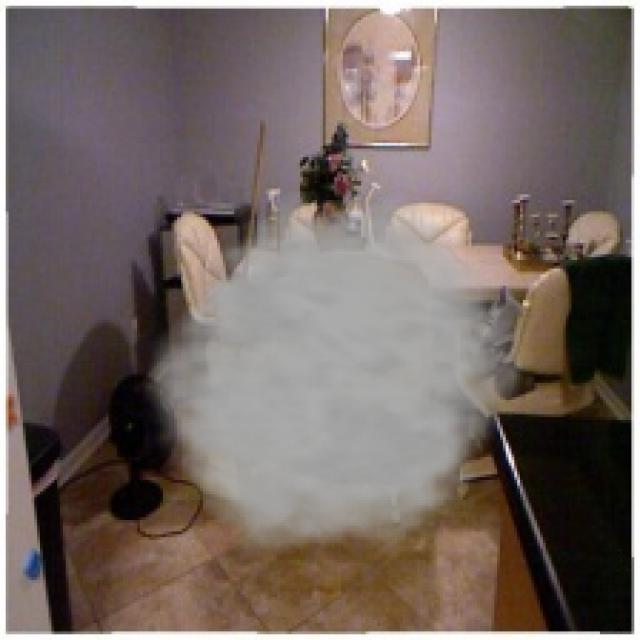smoke: (134, 192, 543, 572)
